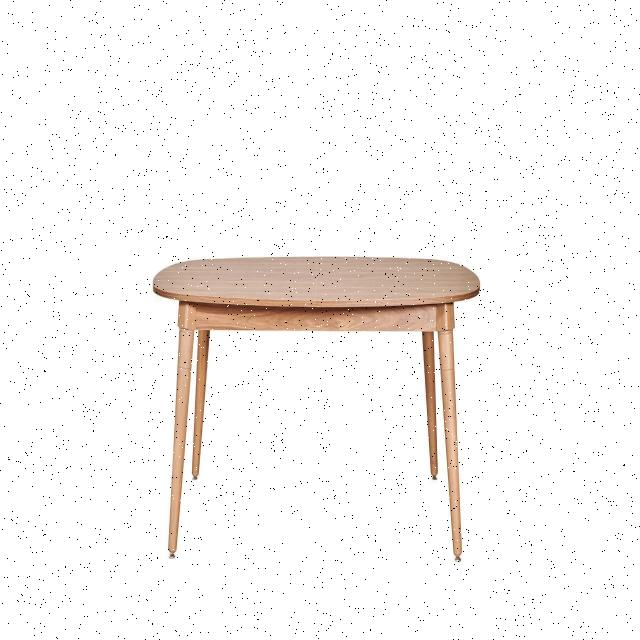Table: (116, 210, 548, 586)
